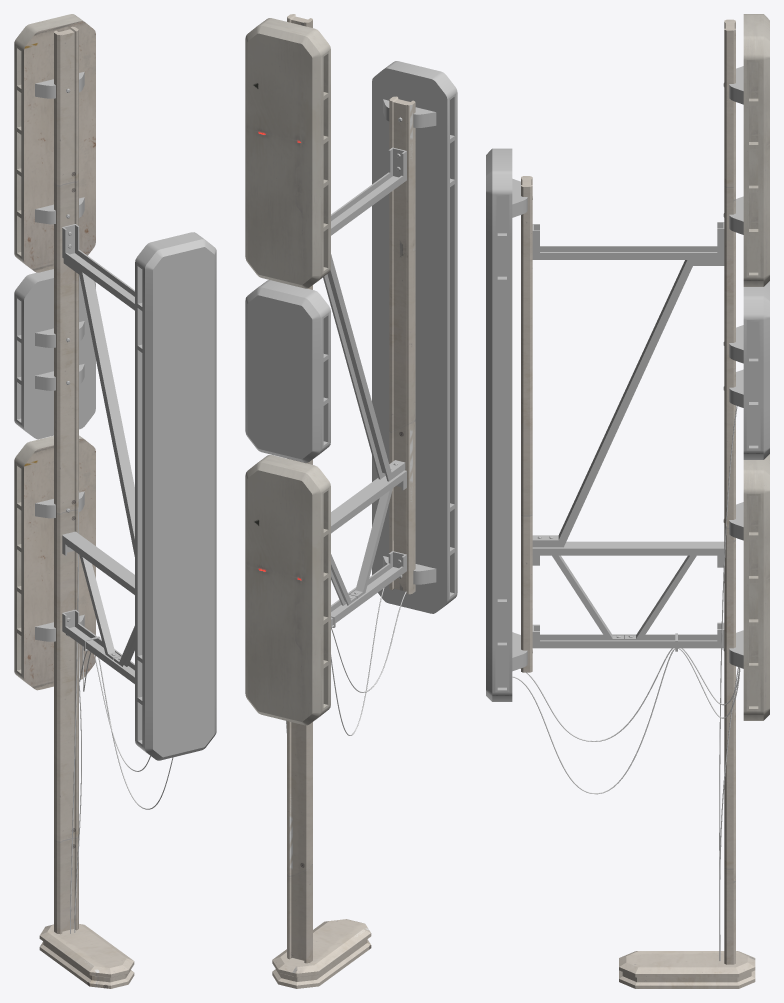
File: KB3D_CBP_Antenna_L.fbx
The picture shows the model from 3 angles, left to right: view 1: azimuth 30°, elevation 25°; view 2: azimuth 150°, elevation 25°; view 3: azimuth 270°, elevation 25°; orthographic projection. The views are drawn at different scales.
Visible parts, largest first — view 1: KB3D_CBP_Antenna_L_Main; view 2: KB3D_CBP_Antenna_L_Main; view 3: KB3D_CBP_Antenna_L_Main.
Part boxes in pixels (x1,y1,x2,y2): KB3D_CBP_Antenna_L_Main: (14,14,216,988); KB3D_CBP_Antenna_L_Main: (245,14,457,988); KB3D_CBP_Antenna_L_Main: (486,14,769,988).
Bounding box in the file's own units: 68.9 × 839 × 227.
